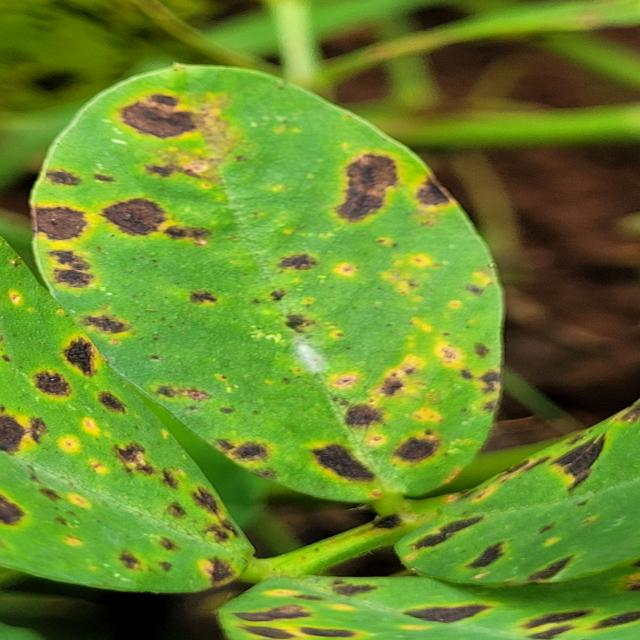Ground nut_tikka leaf spot: (37, 62, 508, 506)
